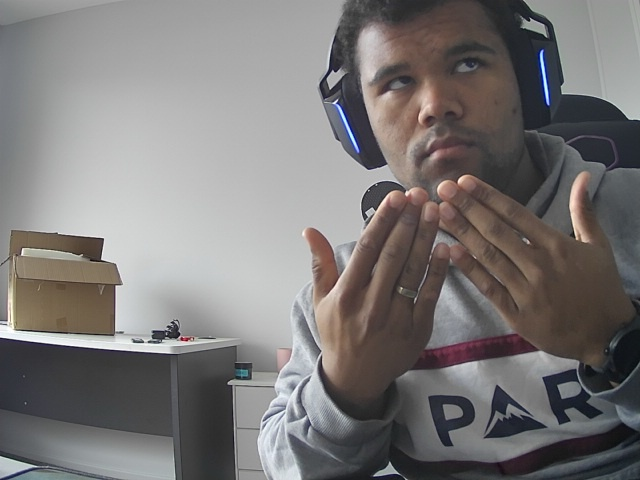ThankYou: (270, 163, 640, 387)
